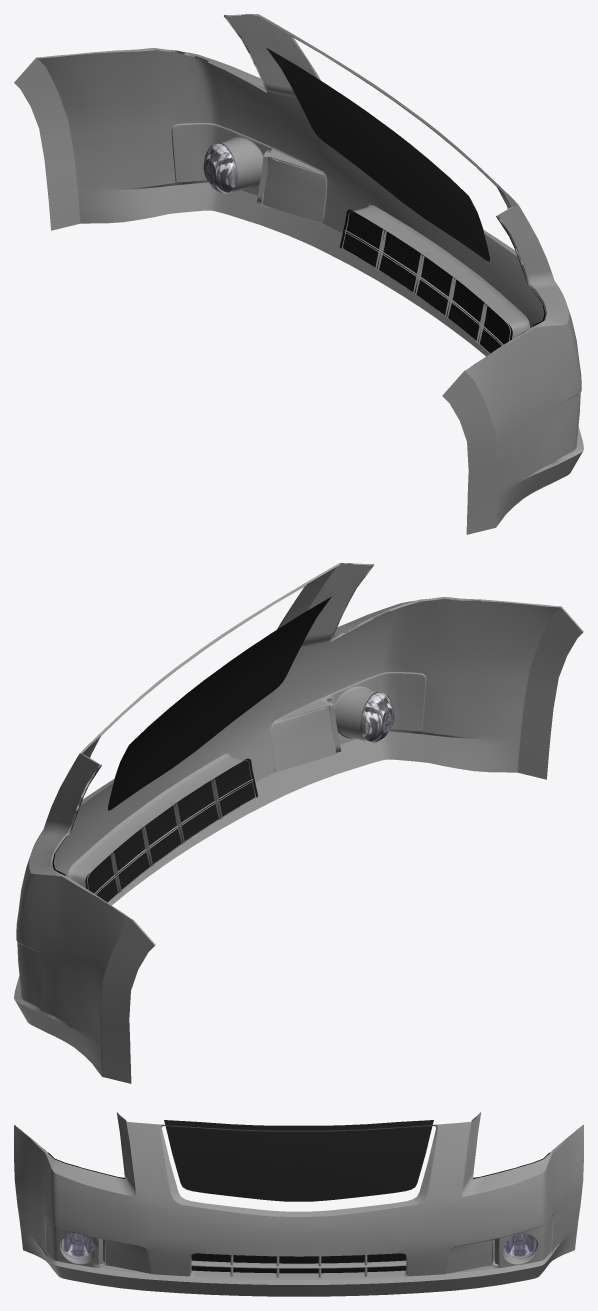
3 views of the same model, one above another, from view 1: azimuth 30°, elevation 25°; view 2: azimuth 150°, elevation 25°; view 3: azimuth 270°, elevation 25° (orthographic). The views are drawn at different scales.
Parts seen in each view (by area): view 1: Z177_021G_C_Z177_021G_C_3_DaS, Z177_021G_C_Z177_021G_C_4_D, Z177_021G_C_Z177_021G_C_3_DaS_E, Z177_021G_C_1_N_Z177_021G_C; view 2: Z177_021G_C_Z177_021G_C_3_DaS, Z177_021G_C_Z177_021G_C_4_D, Z177_021G_C_Z177_021G_C_3_DaS_E, Z177_021G_C_Z177_021G_C_2_N; view 3: Z177_021G_C_Z177_021G_C_3_DaS, Z177_021G_C_Z177_021G_C_4_D, Z177_021G_C_Z177_021G_C_3_DaS_E, Z177_021G_C_1_N_Z177_021G_C, Z177_021G_C_Z177_021G_C_2_N, Z177_021G_C_Z177_021G_C_5_DTaSI, Z177_021G_C_Z177_021G_C_6_DTaSI.
Boxes of the visible parts, <box> form: Z177_021G_C_Z177_021G_C_3_DaS: <box>14,14,582,534</box>; Z177_021G_C_Z177_021G_C_4_D: <box>266,47,512,353</box>; Z177_021G_C_Z177_021G_C_3_DaS_E: <box>14,14,583,484</box>; Z177_021G_C_1_N_Z177_021G_C: <box>203,143,237,193</box>; Z177_021G_C_Z177_021G_C_3_DaS: <box>15,563,583,1083</box>; Z177_021G_C_Z177_021G_C_4_D: <box>85,596,331,902</box>; Z177_021G_C_Z177_021G_C_3_DaS_E: <box>14,563,583,1033</box>; Z177_021G_C_Z177_021G_C_2_N: <box>360,692,394,742</box>; Z177_021G_C_Z177_021G_C_3_DaS: <box>14,1112,583,1296</box>; Z177_021G_C_Z177_021G_C_4_D: <box>164,1120,433,1273</box>; Z177_021G_C_Z177_021G_C_3_DaS_E: <box>14,1113,583,1284</box>; Z177_021G_C_1_N_Z177_021G_C: <box>504,1233,536,1258</box>; Z177_021G_C_Z177_021G_C_2_N: <box>61,1233,93,1258</box>; Z177_021G_C_Z177_021G_C_5_DTaSI: <box>62,1234,93,1257</box>; Z177_021G_C_Z177_021G_C_6_DTaSI: <box>504,1234,535,1257</box>.
Size of the model in its own units: 67.22 by 67.15 by 215.
